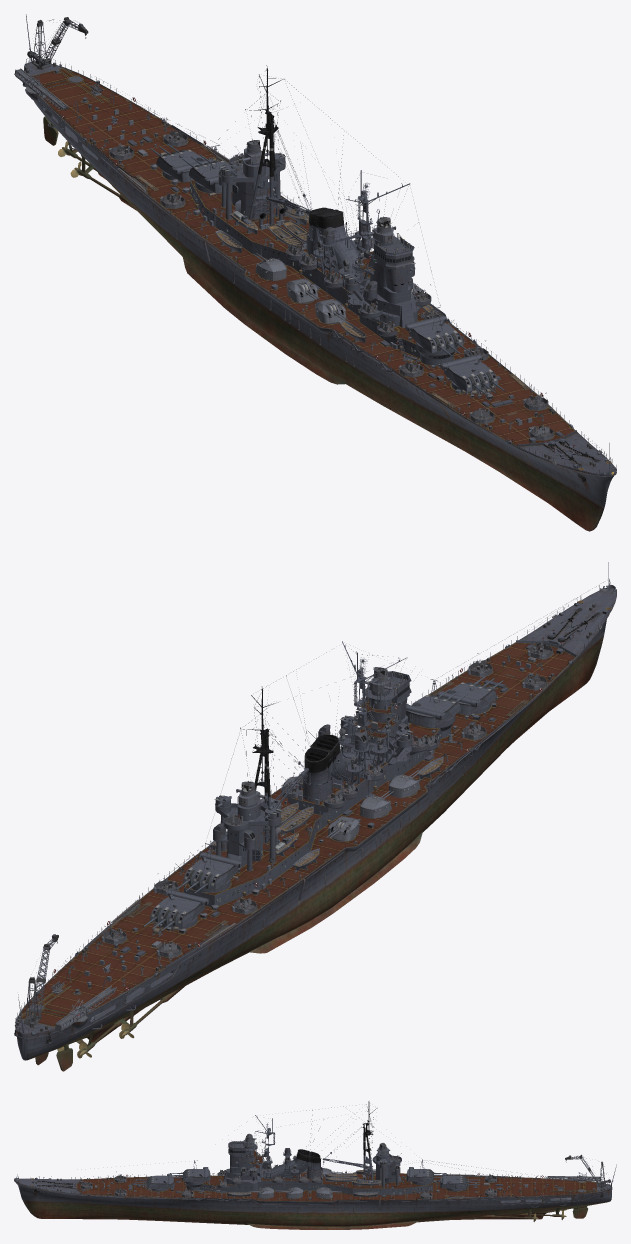
File: japanese_light_cruiser_x-kuzuryu-maximum-compressed.glb
3 views of the same model, one above another, from view 1: azimuth 30°, elevation 25°; view 2: azimuth 150°, elevation 25°; view 3: azimuth 270°, elevation 25° (orthographic). The views are drawn at different scales.
Visible parts, largest first — view 1: JSC034_Zao_1944_midfront, JSC034_Zao_1944_midfront_Worcester_AGM077_6in47_MK16_skinned; view 2: JSC034_Zao_1944_midfront, JSC034_Zao_1944_midfront_Worcester_AGM077_6in47_MK16_skinned; view 3: JSC034_Zao_1944_midfront, JSC034_Zao_1944_midfront_Worcester_AGM077_6in47_MK16_skinned.
Part boxes in pixels (<box>): JSC034_Zao_1944_midfront: <box>14,14,616,531</box>; JSC034_Zao_1944_midfront_Worcester_AGM077_6in47_MK16_skinned: <box>150,143,504,395</box>; JSC034_Zao_1944_midfront: <box>14,562,616,1071</box>; JSC034_Zao_1944_midfront_Worcester_AGM077_6in47_MK16_skinned: <box>143,676,503,931</box>; JSC034_Zao_1944_midfront: <box>14,1102,616,1229</box>; JSC034_Zao_1944_midfront_Worcester_AGM077_6in47_MK16_skinned: <box>134,1170,480,1186</box>.
Size of the model in its own units: 0.4377 by 0.8267 by 3.8.
85 materials, 84 textured.
